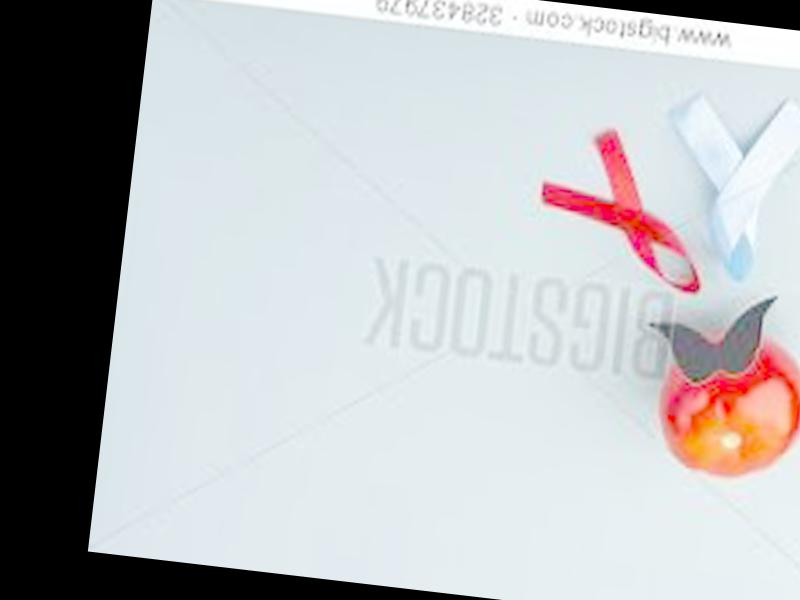Tomato: (651, 324, 800, 486)
